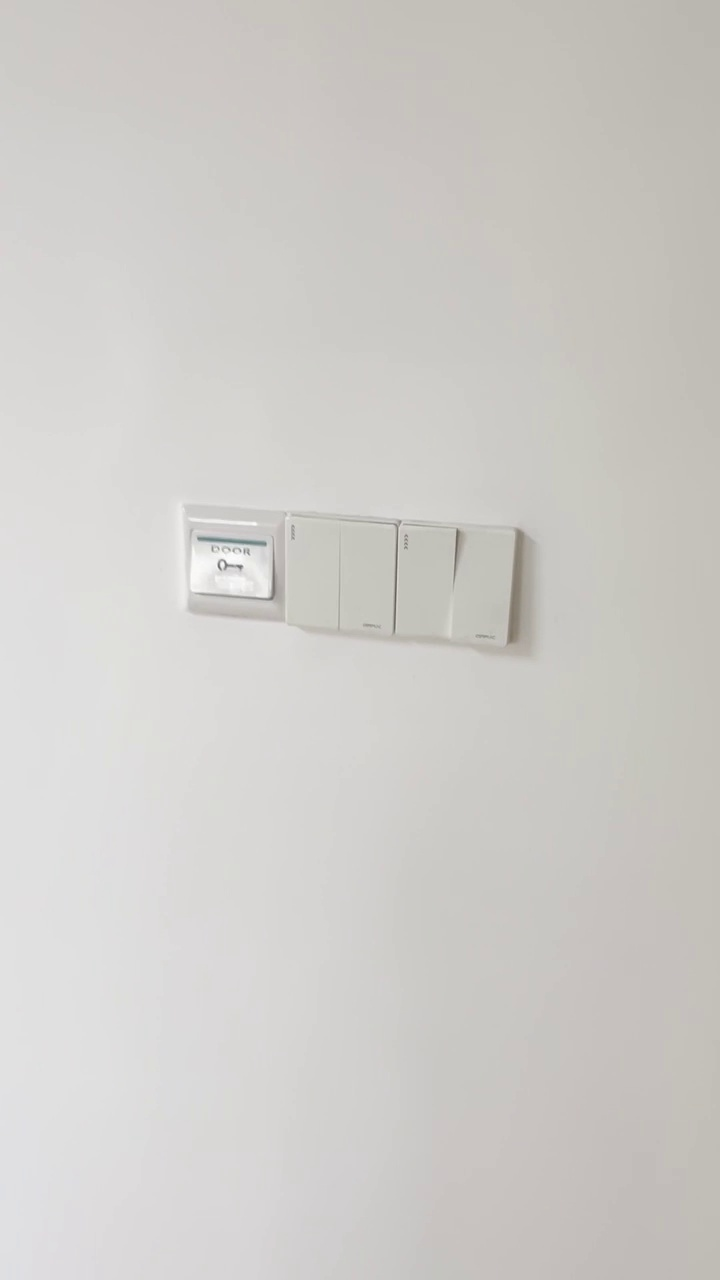button: (398, 517, 521, 655), (274, 508, 397, 645)
